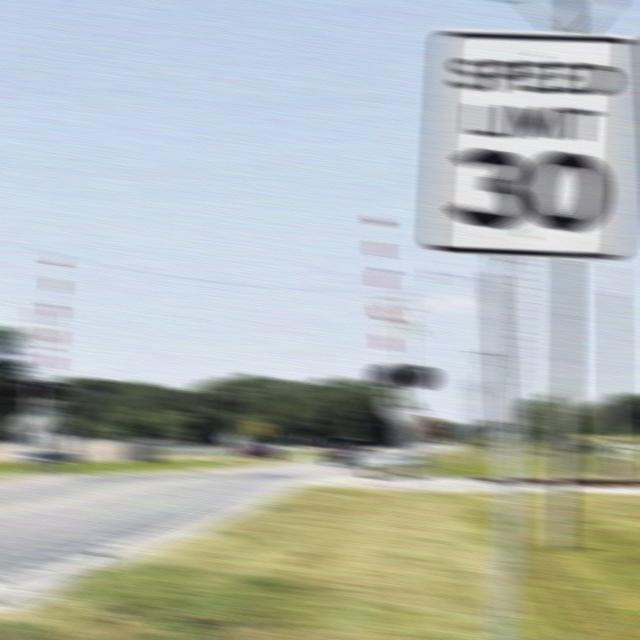speedLimit30: (418, 25, 640, 266)
